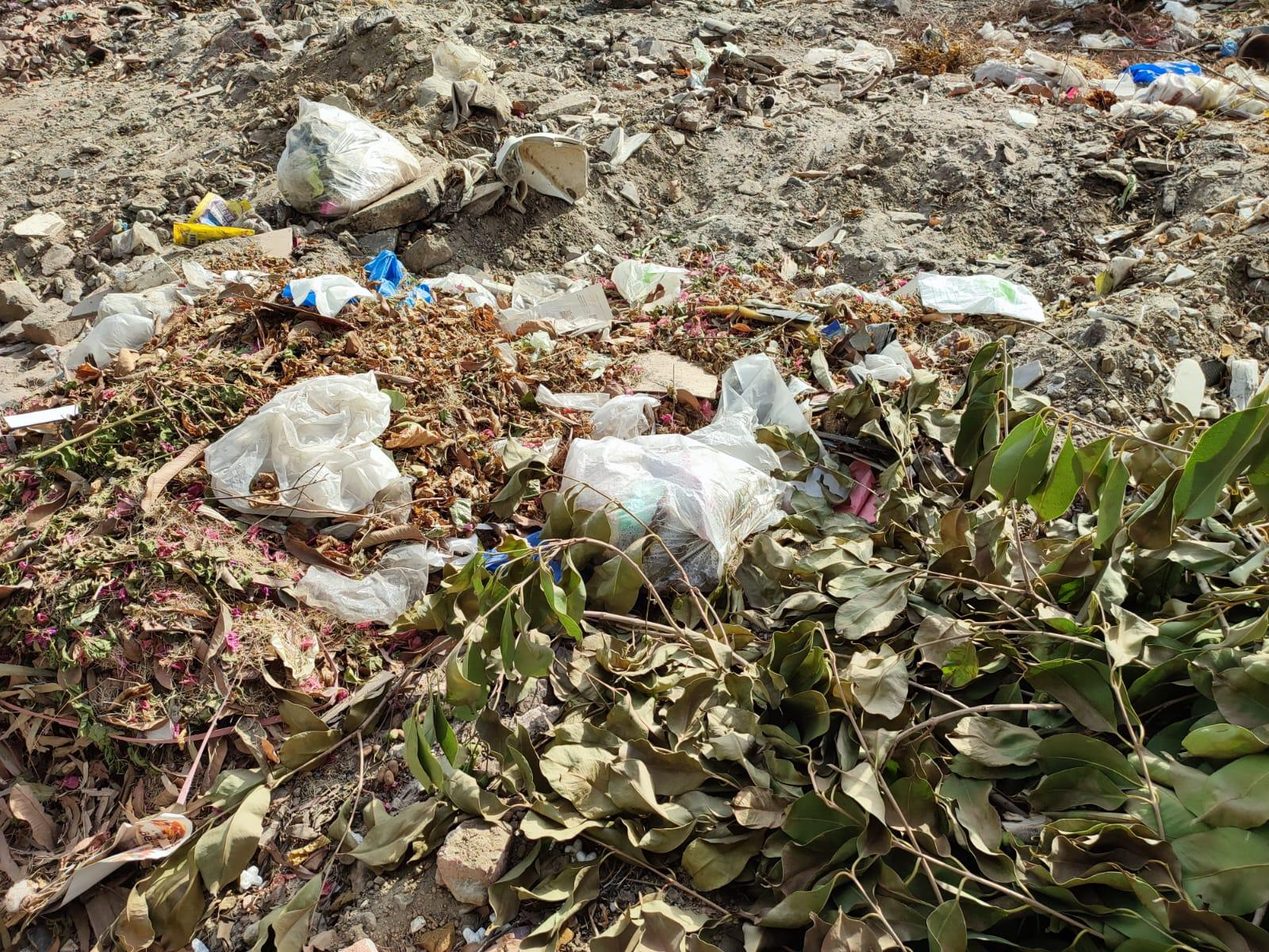garbage: (85, 87, 951, 643)
